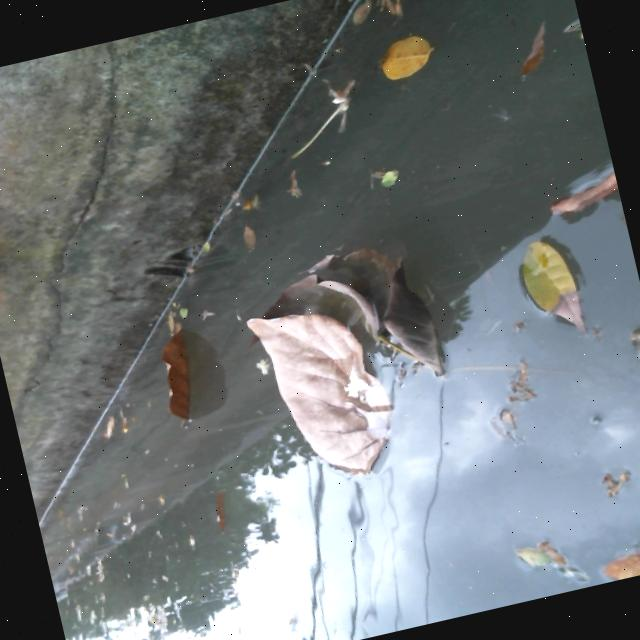Big-leaf: (222, 224, 481, 499), (139, 295, 205, 428)
Small-leaf: (513, 234, 593, 339), (368, 18, 455, 105), (508, 526, 579, 587), (503, 13, 564, 73), (547, 166, 620, 212), (368, 148, 410, 197), (202, 487, 237, 533), (593, 546, 640, 580), (236, 185, 269, 214), (100, 411, 131, 441), (241, 222, 262, 248)
